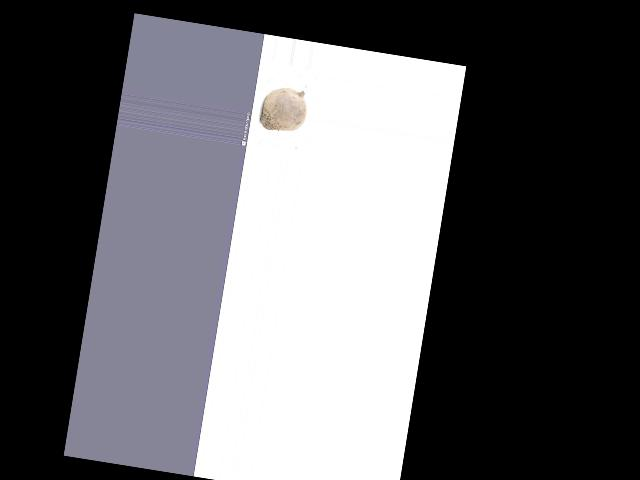beet: (258, 84, 309, 134)
